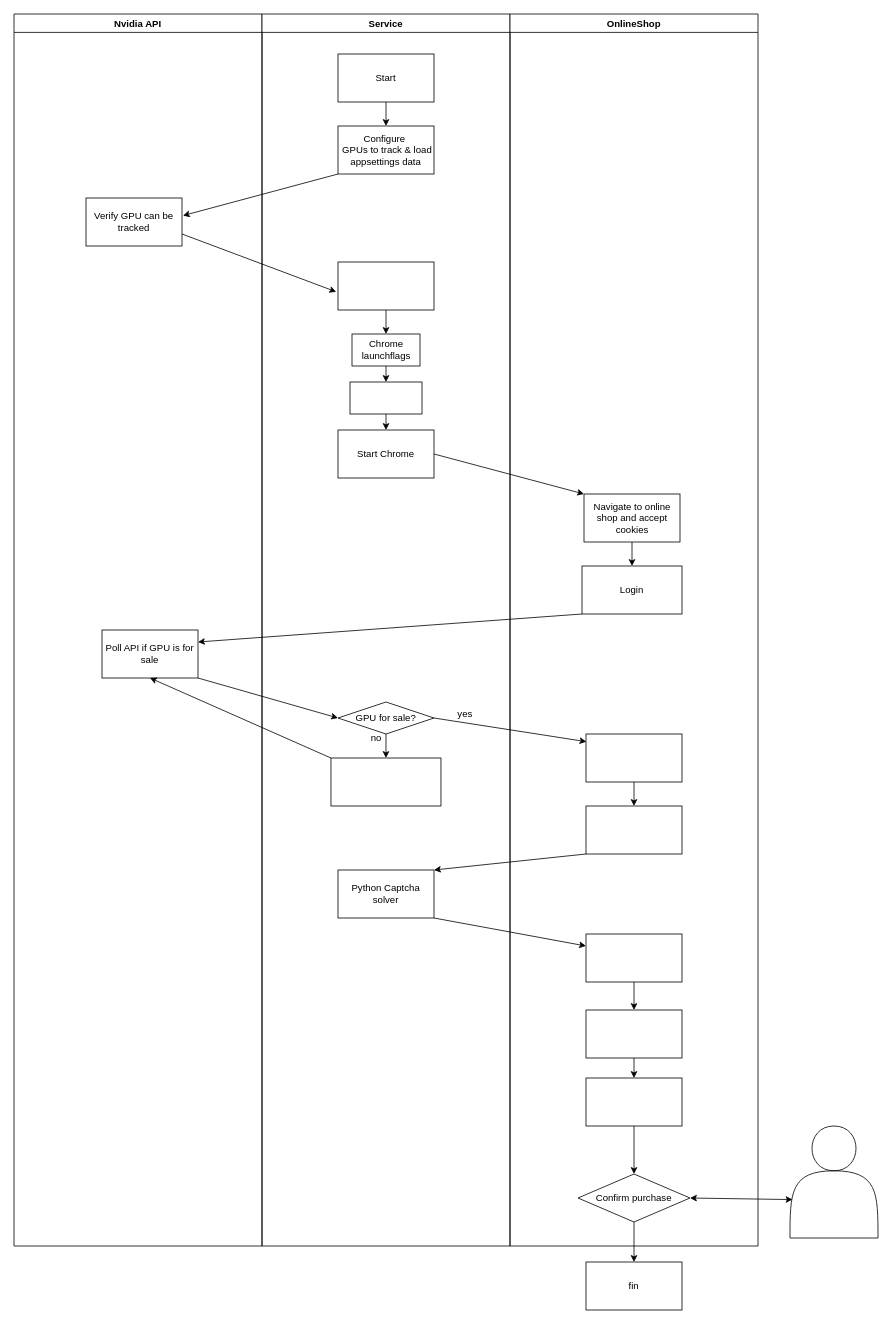
The diagram is 892 pixels wide and 1324 high, and some of its shapes have lost their labels. Here are the shapes that lost their labels. From the top down, the centre of each, then its label:
At (x=385, y=285): "Configure agent".
At (x=385, y=397): "Hexedit chrome.exe".
At (x=633, y=757): "navigate to shop link".
At (x=385, y=781): "Polling longer than 5 minutes ? Refresh website".
At (x=633, y=829): "Add to cart".
At (x=633, y=957): "navigate to complete shoppingcart page".
At (x=633, y=1033): "fill shoppingcart data".
At (x=633, y=1101): "Click buy-now".
